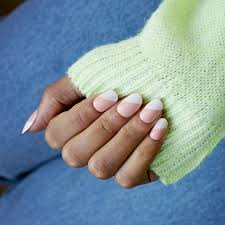nail: (118, 92, 143, 116), (92, 90, 118, 113), (139, 97, 162, 122), (18, 110, 38, 134), (149, 118, 169, 140)
